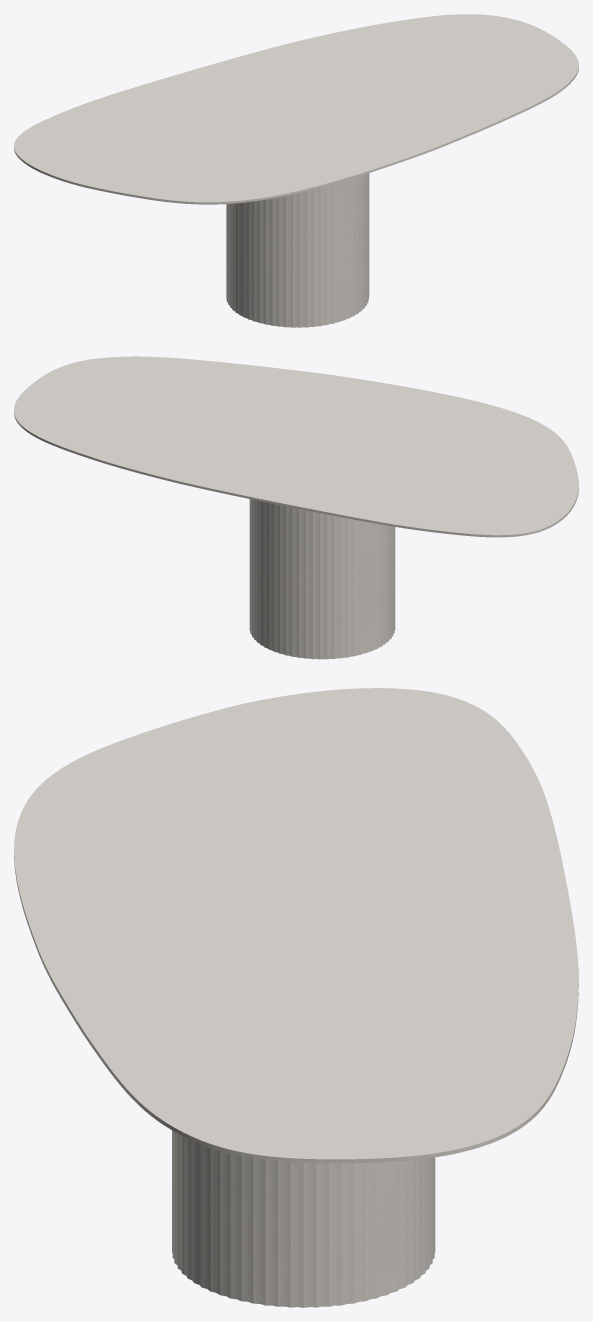
Rendered from purewhite_leaf2_facet_ripple.glb.
3 renders of one model, top to bottom at view 1: azimuth 30°, elevation 25°; view 2: azimuth 150°, elevation 25°; view 3: azimuth 270°, elevation 25°, orthographic. The views are drawn at different scales.
Parts seen in each view (by area): view 1: facet_leaf2, ripple; view 2: facet_leaf2, ripple; view 3: facet_leaf2, ripple.
Part boxes in pixels (x1,y1,x2,y2): facet_leaf2: (14,14,578,204); ripple: (226,173,369,327); facet_leaf2: (14,356,578,537); ripple: (249,499,395,659); facet_leaf2: (14,688,578,1163); ripple: (172,1130,435,1307).
Size of the model in its own units: 7.5 by 2.5 by 3.8.
Materials: 1 (1 with a texture image).
